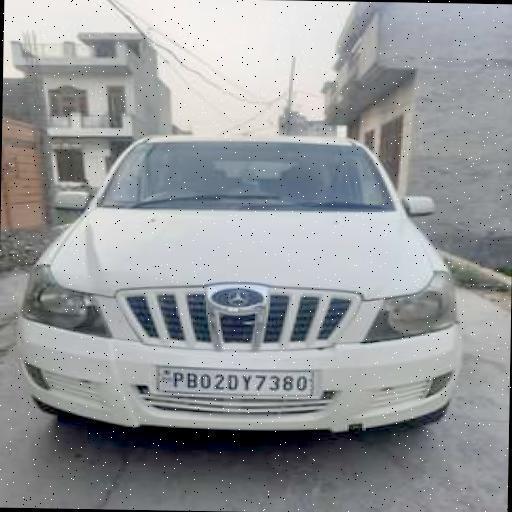license_plate`: (156, 366, 312, 393)
